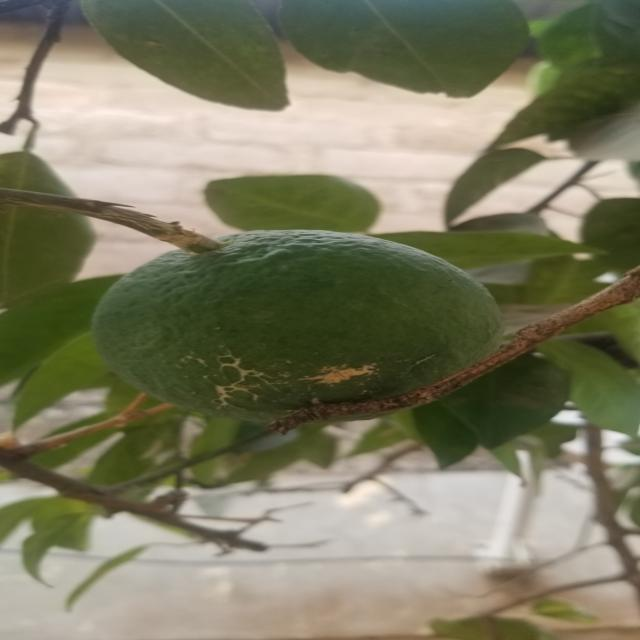Unripe: (59, 228, 522, 432)
